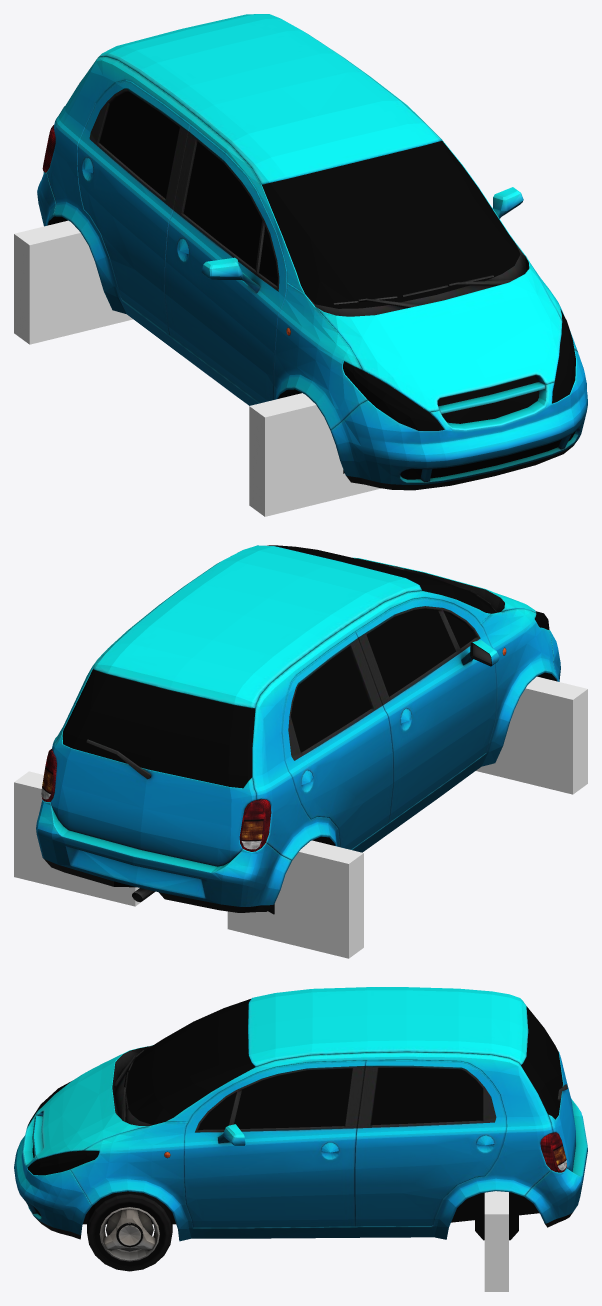
The model's file is compact.glb.
3 renders of one model, top to bottom at view 1: azimuth 30°, elevation 25°; view 2: azimuth 150°, elevation 25°; view 3: azimuth 270°, elevation 25°, orthographic. The views are drawn at different scales.
Visible parts, largest first — view 1: body, wheelFrontRight, wheelBackRight; view 2: body, wheelBackRight, wheelFrontRight, wheelBackLeft; view 3: body, wheelFrontLeft, wheelBackLeft.
Part boxes in pixels (box(x1,y1,x2,y2)): body: box(37, 14, 587, 490); wheelFrontRight: box(249, 393, 381, 516); wheelBackRight: box(14, 220, 133, 344); body: box(36, 545, 560, 914); wheelBackRight: box(227, 840, 363, 958); wheelFrontRight: box(476, 676, 587, 794); wheelBackLeft: box(14, 771, 149, 906); body: box(14, 987, 587, 1241); wheelFrontLeft: box(87, 1191, 172, 1271); wheelBackLeft: box(484, 1191, 508, 1291).
Size of the model in its own units: 1.8 by 1.32 by 3.26.
Materials: 5 (3 with a texture image).
